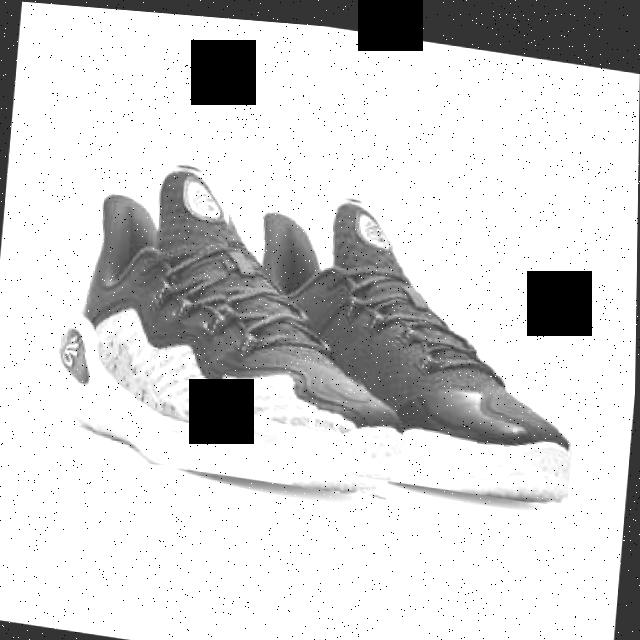shoe: (44, 142, 415, 494), (207, 172, 592, 500)
